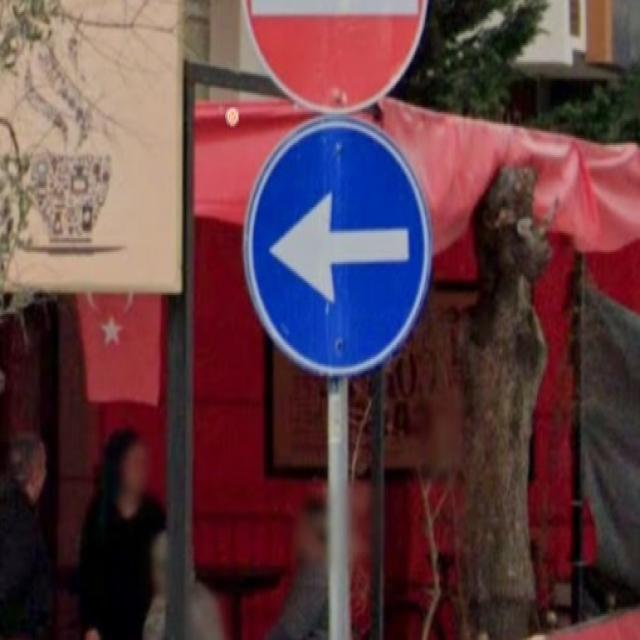Turn Left: (243, 118, 439, 377)
